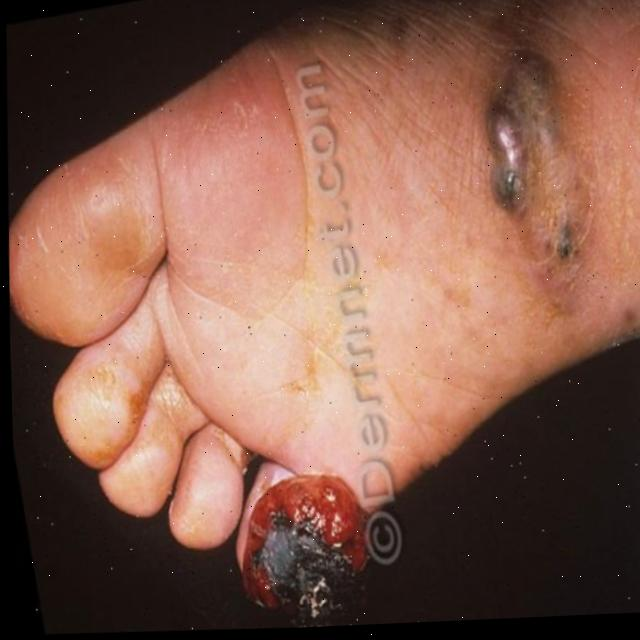Shingles: (227, 443, 387, 611)
